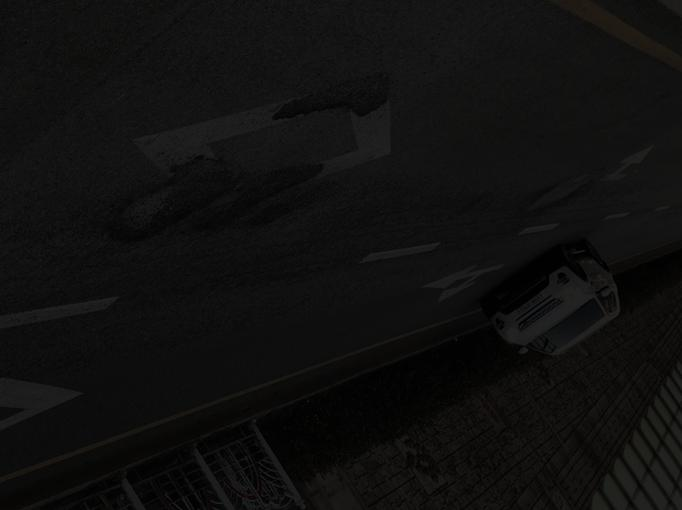pothole: (95, 153, 324, 265), (264, 60, 403, 134), (515, 164, 603, 224)
